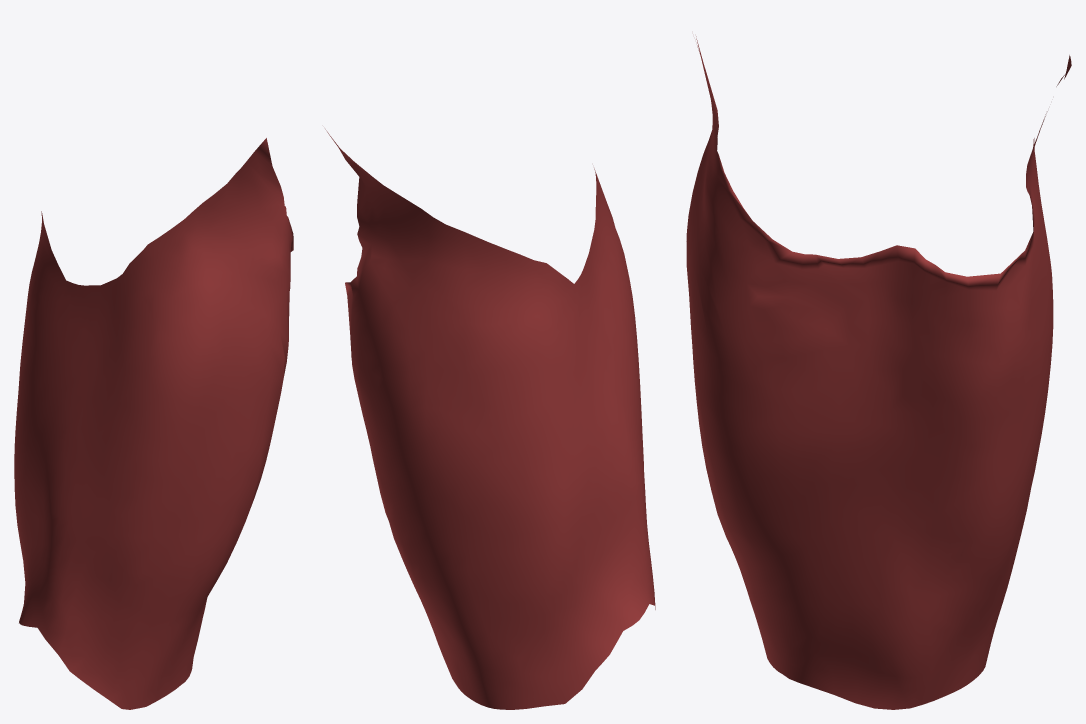
Rendered from brachial-fascia-r.glb.
3 views of the same model, side by side, from view 1: azimuth 30°, elevation 25°; view 2: azimuth 150°, elevation 25°; view 3: azimuth 270°, elevation 25° (orthographic). The views are drawn at different scales.
Visible parts, largest first — view 1: Brachial fascia.r; view 2: Brachial fascia.r; view 3: Brachial fascia.r.
Part boxes in pixels (x1,y1,x2,y2): Brachial fascia.r: [14, 138, 293, 709]; Brachial fascia.r: [325, 129, 655, 709]; Brachial fascia.r: [686, 36, 1071, 709].
Bounding box in the file's own units: 0.088 × 0.2018 × 0.1015.
